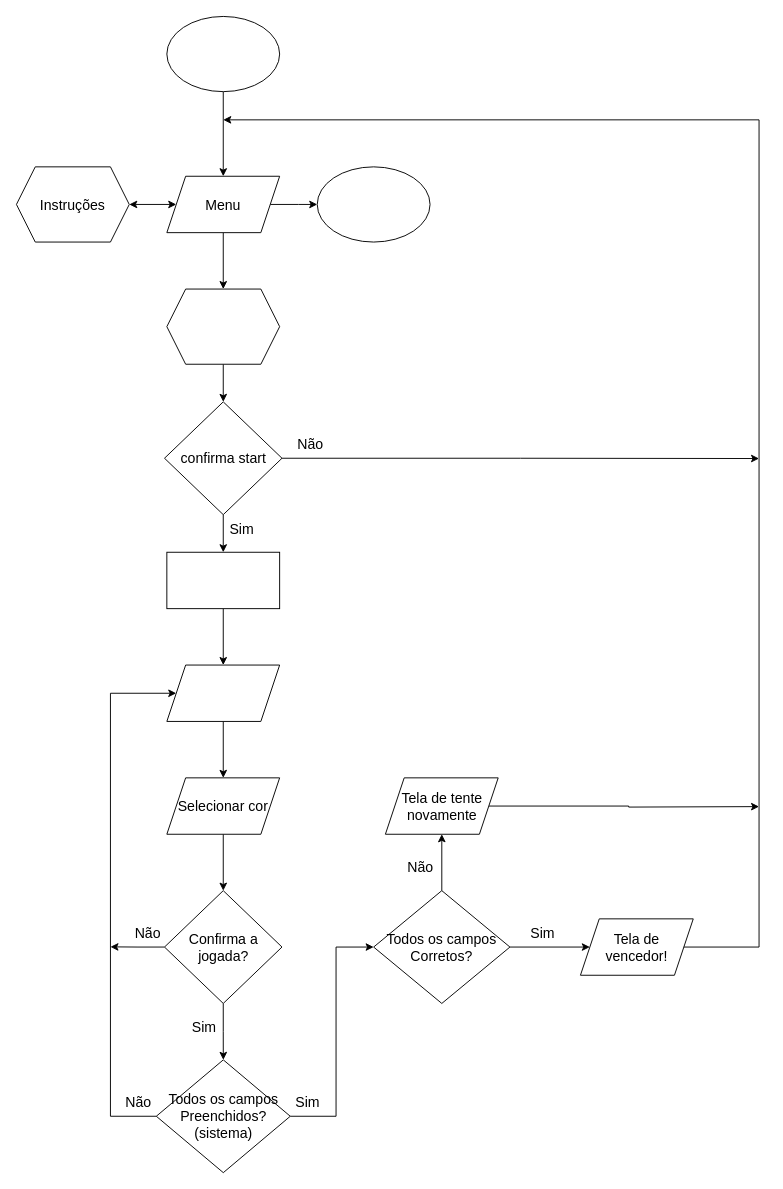
The diagram is 783 pixels wide and 1189 high, and some of its shapes have lost their labels. Here are the shapes that lost their labels. From the top down, the centre of each, then its label:
At (x=223, y=54): "Inicio".
At (x=373, y=204): "Sair/Fim".
At (x=223, y=326): "Escolha de idioma".
At (x=223, y=580): "Novo Tabuleiro".
At (x=223, y=692): "Selecionar posição".
